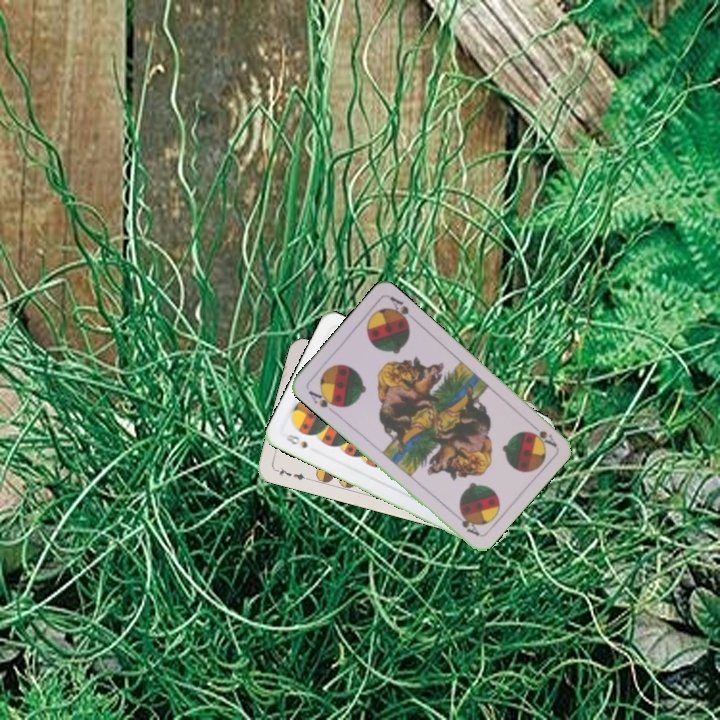E7: (271, 463, 311, 483)
S8: (282, 430, 310, 451)
SA: (525, 418, 559, 450), (304, 386, 341, 410)
